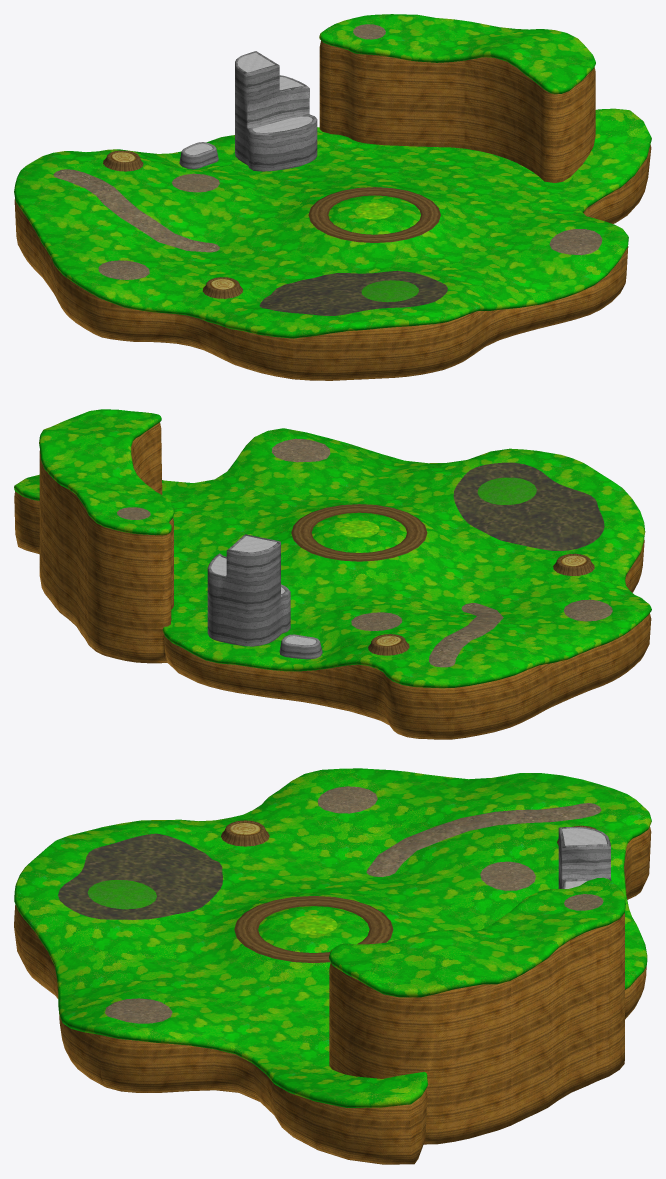
File: YoshiHomePlanet.fbx
3 views of the same model, one above another, from view 1: azimuth 30°, elevation 25°; view 2: azimuth 150°, elevation 25°; view 3: azimuth 270°, elevation 25° (orthographic). The views are drawn at different scales.
Parts seen in each view (by area): view 1: Circle.001; view 2: Circle.001; view 3: Circle.001.
Boxes of the visible parts, left/top/right/bottom form: Circle.001: left=14, top=14, right=651, bottom=380; Circle.001: left=14, top=409, right=651, bottom=739; Circle.001: left=14, top=768, right=651, bottom=1164.
Size of the model in its own units: 661895 by 148686 by 521523.
10 materials, 10 textured.
